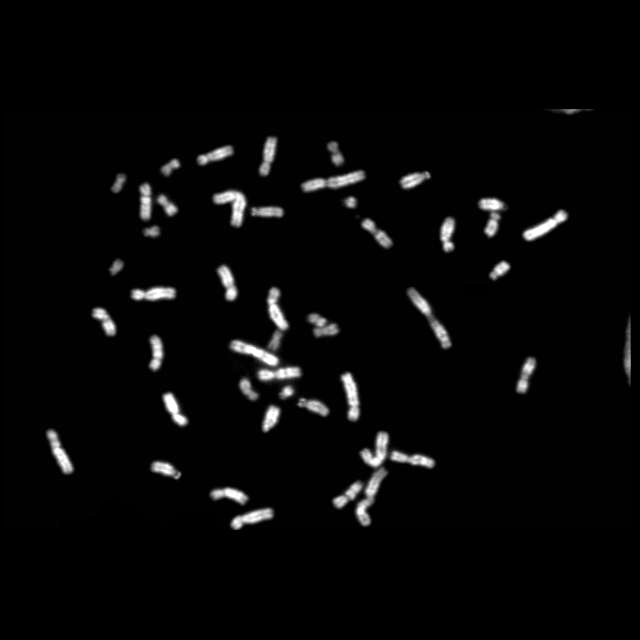chromosome: (408, 288, 450, 348), (357, 469, 389, 527), (301, 169, 365, 191), (523, 210, 569, 240), (230, 339, 278, 366), (46, 428, 74, 474), (214, 190, 246, 228), (360, 432, 388, 468), (266, 288, 288, 330), (232, 508, 274, 530), (341, 373, 359, 421), (362, 220, 392, 248), (164, 392, 188, 426), (332, 482, 362, 508), (392, 451, 434, 469), (515, 356, 535, 392), (131, 285, 175, 301), (92, 308, 116, 336), (199, 146, 233, 164), (218, 266, 236, 300), (260, 137, 276, 175), (148, 334, 164, 371), (439, 217, 455, 253), (212, 488, 248, 504), (401, 171, 431, 189), (298, 398, 328, 416), (258, 368, 302, 380), (152, 462, 180, 480), (326, 142, 344, 166), (263, 406, 279, 432), (489, 260, 509, 280), (240, 379, 258, 401), (484, 212, 500, 236), (252, 205, 282, 217), (159, 195, 177, 215), (160, 158, 180, 176), (140, 183, 150, 219), (314, 324, 338, 338), (268, 332, 284, 352), (480, 198, 504, 210), (112, 173, 125, 193), (308, 314, 326, 328), (110, 258, 124, 276), (144, 226, 160, 238), (280, 386, 292, 400), (343, 196, 355, 208)
